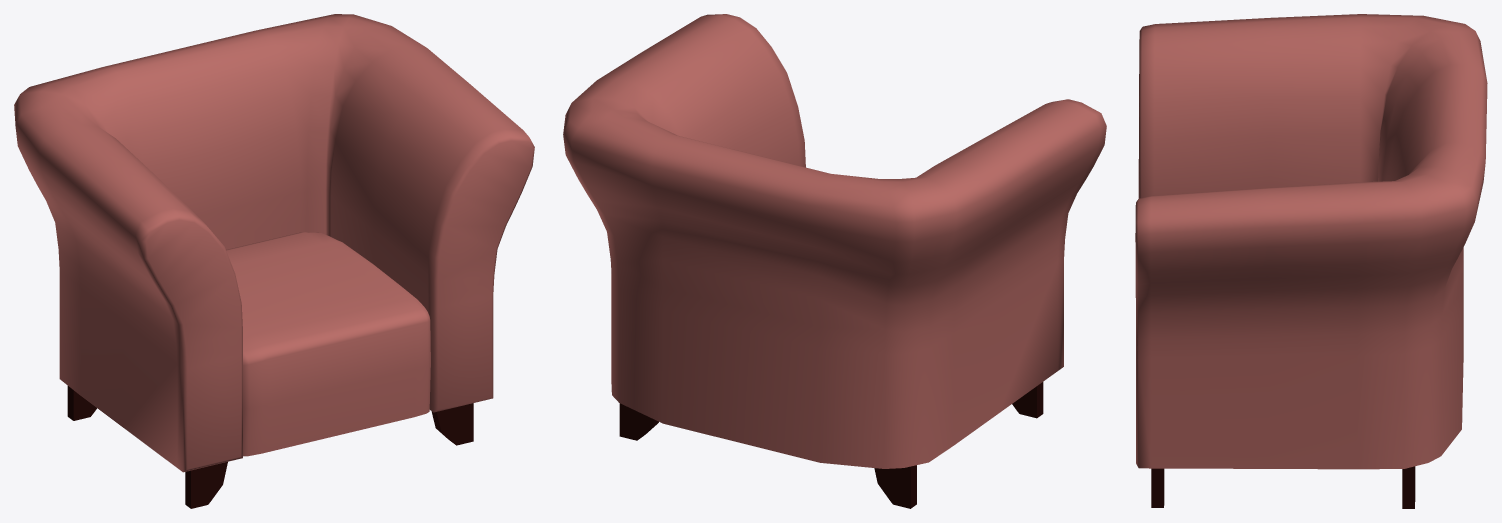
File: sofa.fbx
3 renders of one model, left to right at view 1: azimuth 30°, elevation 25°; view 2: azimuth 150°, elevation 25°; view 3: azimuth 270°, elevation 25°, orthographic. The views are drawn at different scales.
Parts seen in each view (by area): view 1: Sofa; view 2: Sofa; view 3: Sofa.
Part boxes in pixels (left/top/right/bottom): Sofa: left=14, top=14, right=534, bottom=508; Sofa: left=563, top=14, right=1106, bottom=508; Sofa: left=1135, top=14, right=1487, bottom=508.
Bounding box in the file's own units: 295 × 228 × 218.
